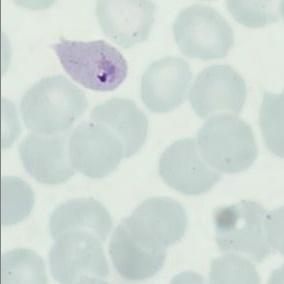Infected: (45, 37, 129, 92)
Uninfected: (18, 78, 86, 132), (161, 138, 218, 198), (196, 116, 258, 171), (175, 5, 233, 63), (18, 132, 79, 186), (112, 218, 166, 278), (90, 96, 147, 152), (68, 121, 121, 181), (46, 232, 106, 284), (194, 62, 244, 124), (216, 202, 270, 257), (128, 195, 187, 245), (50, 195, 112, 241), (95, 0, 155, 45), (142, 56, 192, 109)
